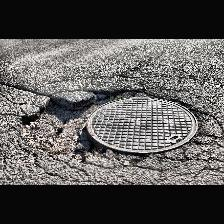pothole: (18, 86, 130, 162)
